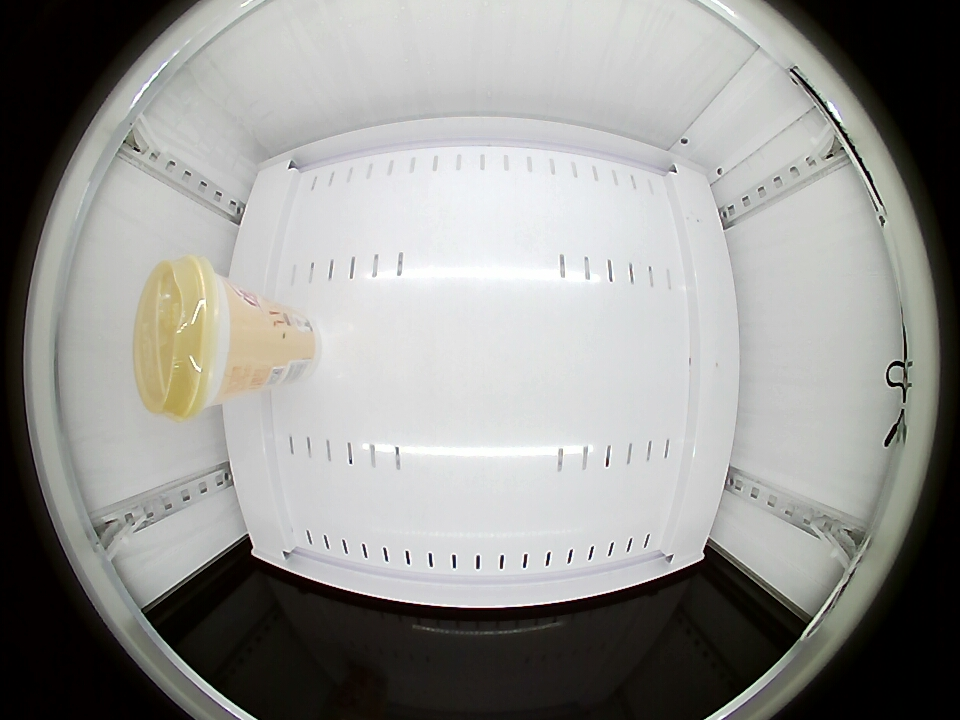youlemei: (134, 256, 239, 420)
